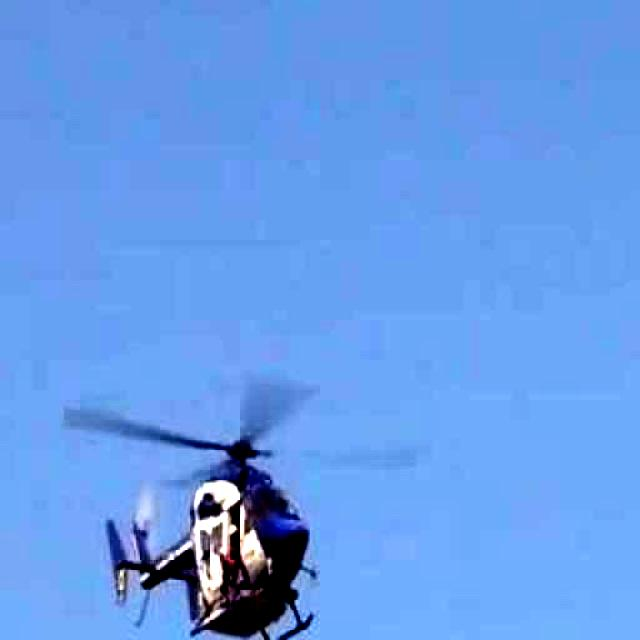drone: (48, 355, 429, 640)
